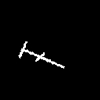double_crochet: (19, 42, 63, 67)
